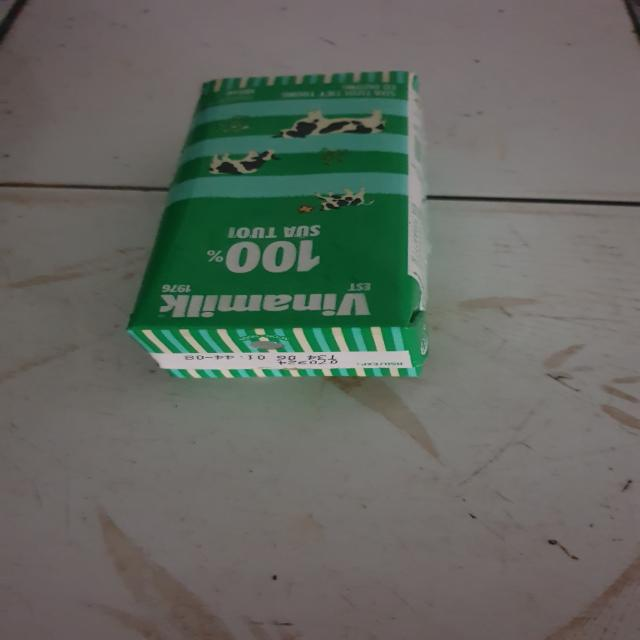Vina: (112, 66, 481, 384)
